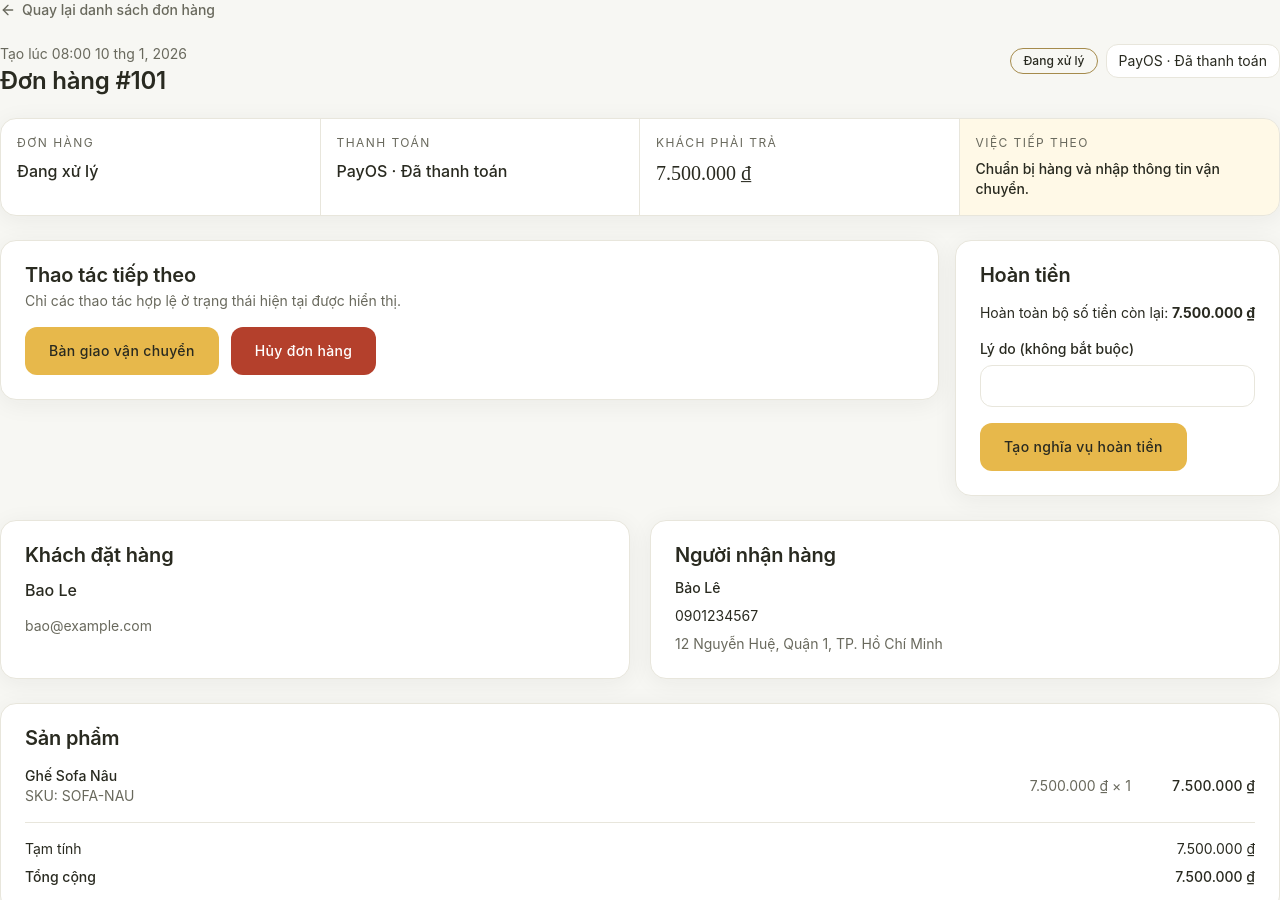
Test: AdminOrderDetailPage › transitions the order status when clicking a valid action
Check: the heading "Đơn hàng #101" is shown, box [0,68,187,94]
Click the button "Bàn giao vận chuyển" at (122, 350), box [25,326,219,374]
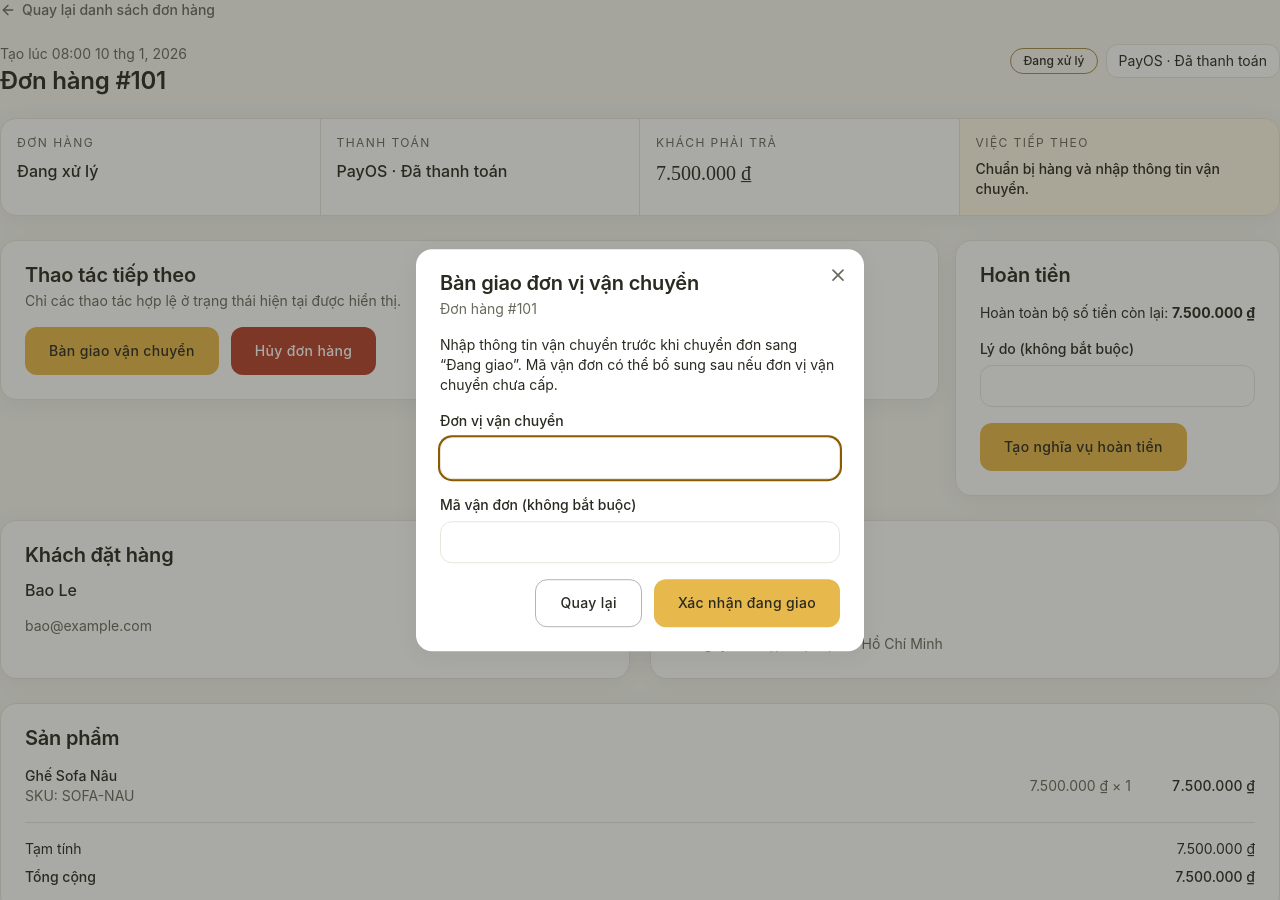
Type "Giao Hàng Nhanh" into the field labelled "Đơn vị vận chuyển" at (640, 458), box [440,437,840,479]
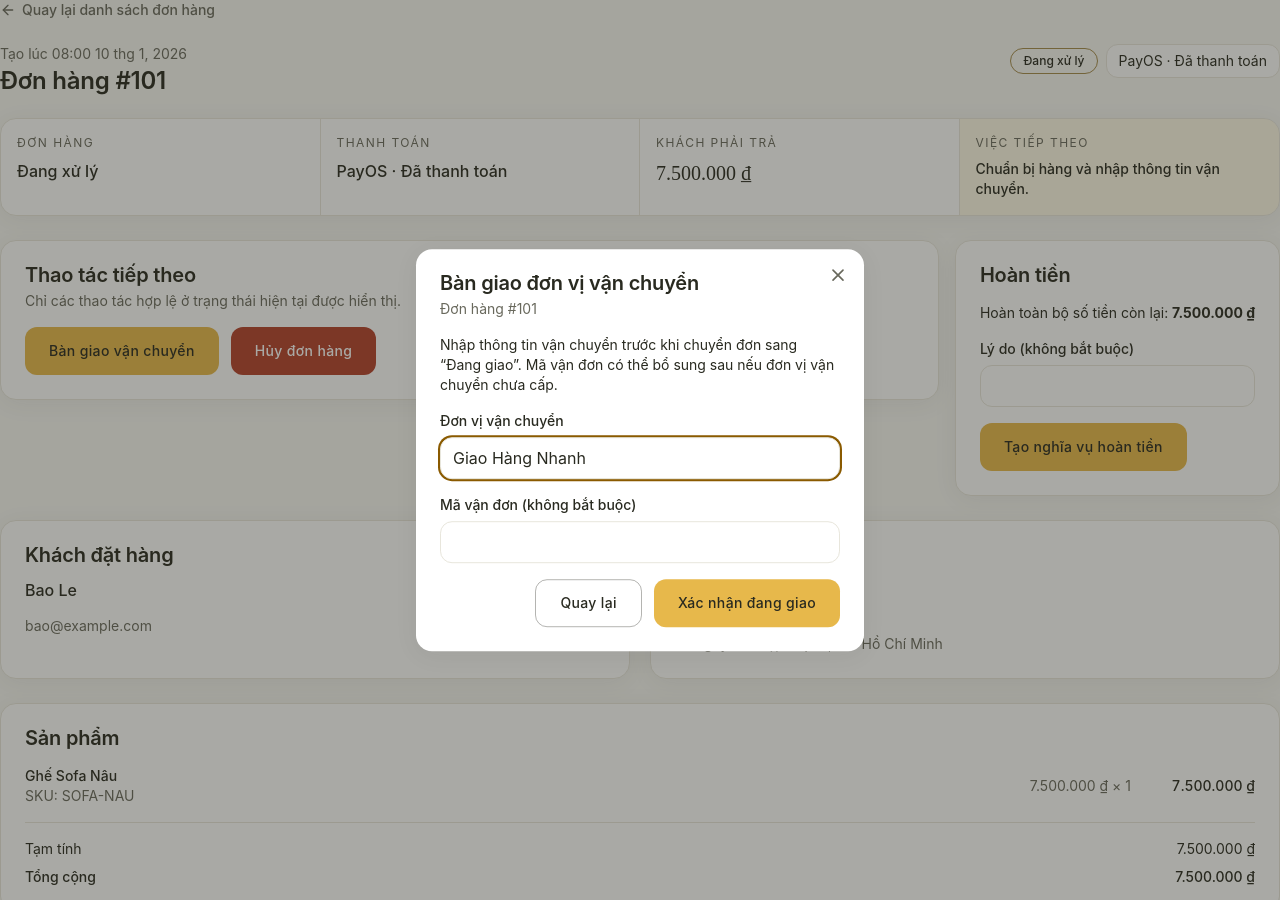
Type "GHN-101" into the field labelled "Mã vận đơn (không bắt buộc)" at (640, 542), box [440,521,840,563]
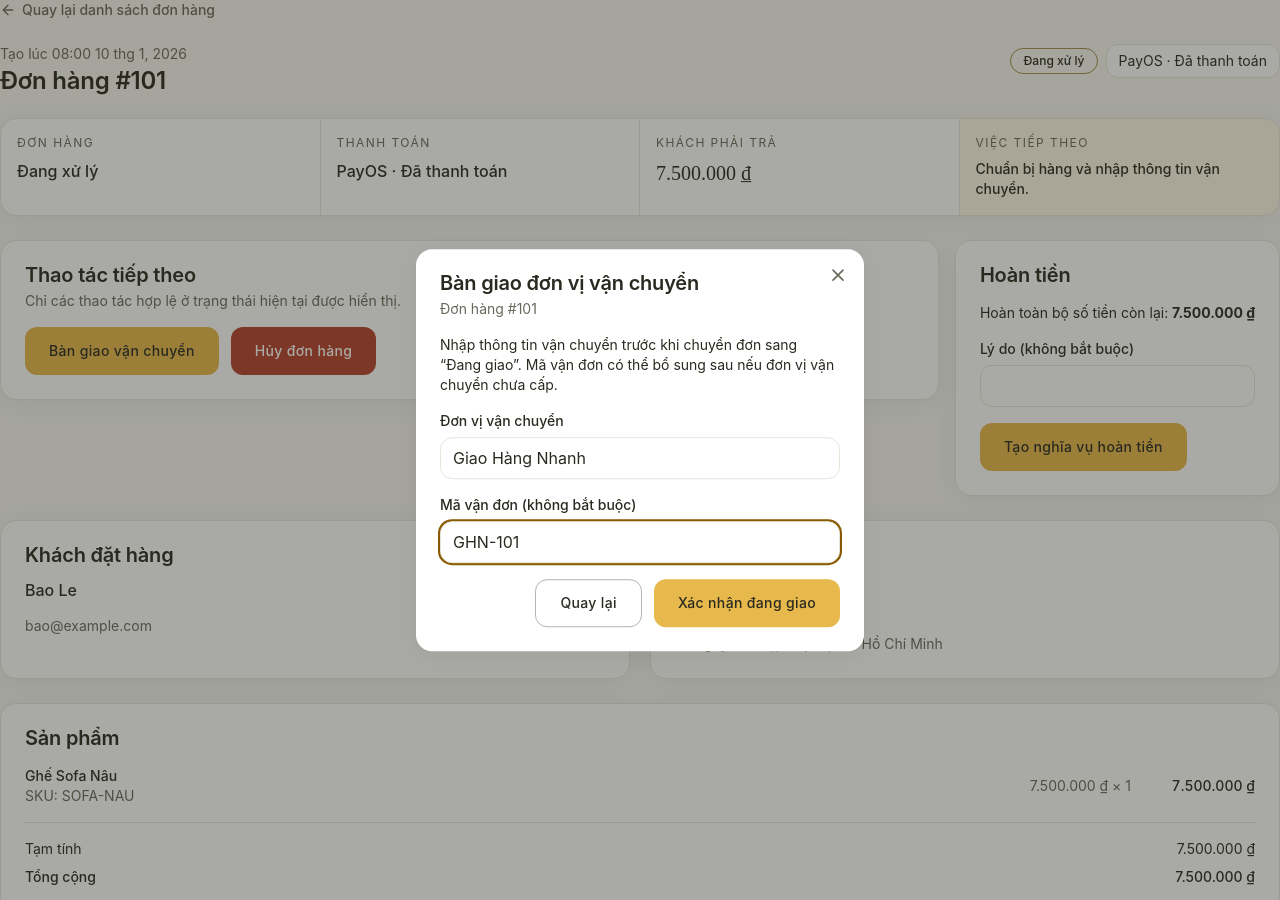
Click the button "Xác nhận đang giao" at (747, 603), box [654,579,840,627]
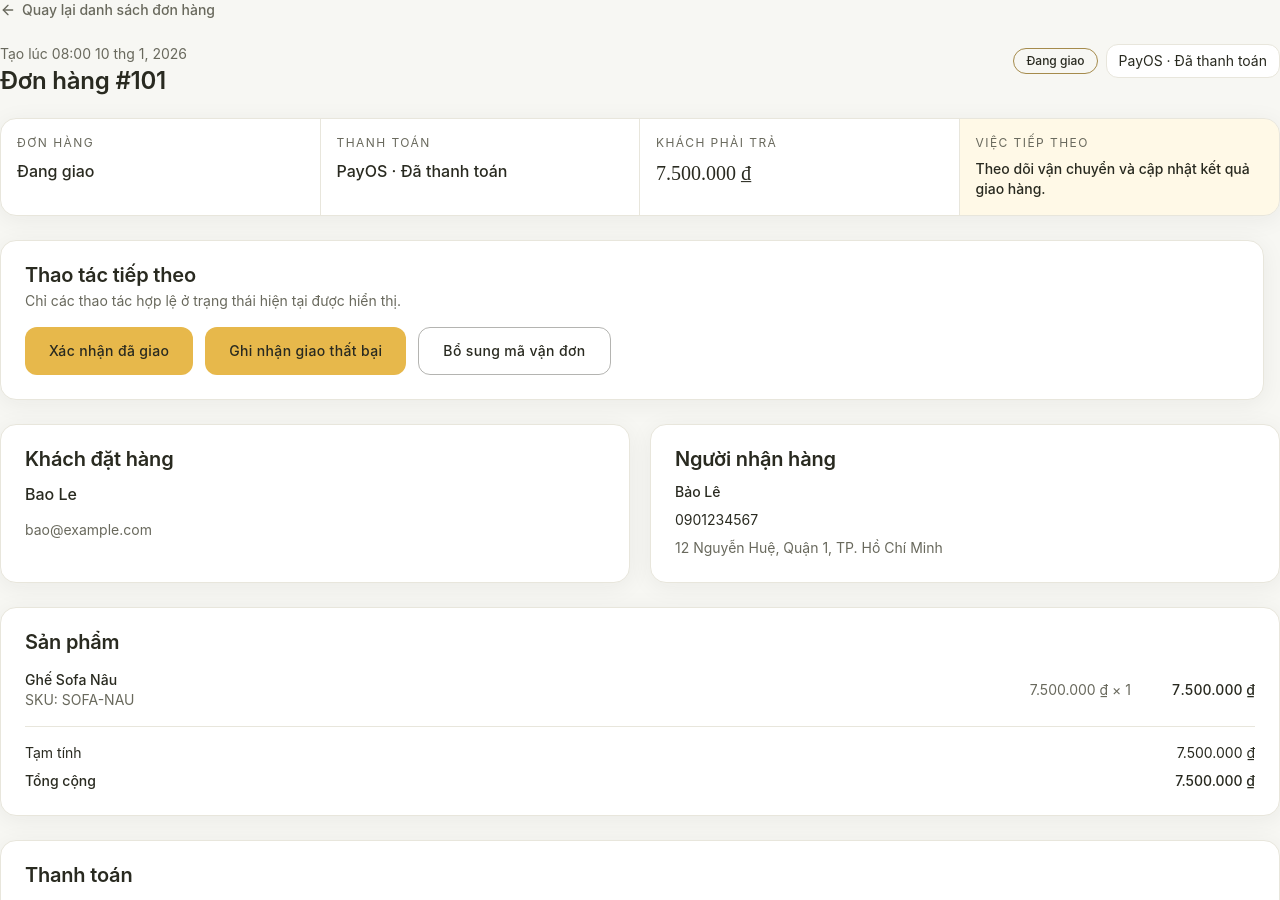
Check: the button "Xác nhận đã giao" is shown, box [25,326,193,374]
